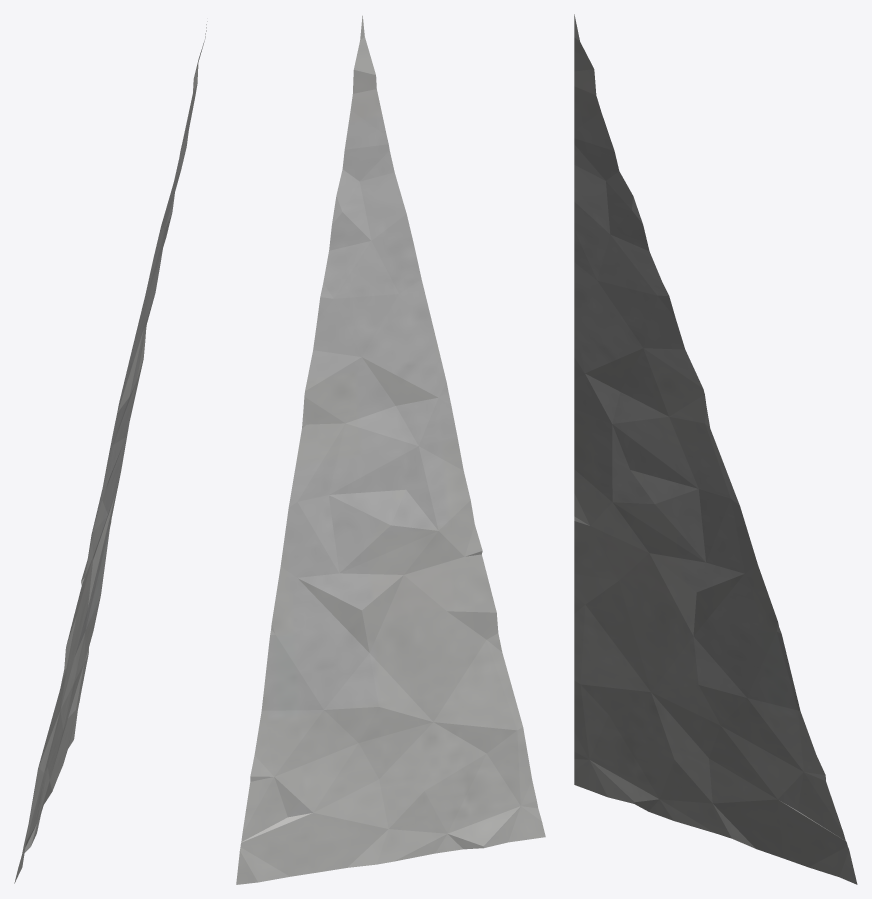
3 renders of one model, left to right at view 1: azimuth 30°, elevation 25°; view 2: azimuth 150°, elevation 25°; view 3: azimuth 270°, elevation 25°, orthographic. The views are drawn at different scales.
Size of the model in its own units: 0.1266 by 0.5142 by 0.1514.
1 material, 1 textured.
